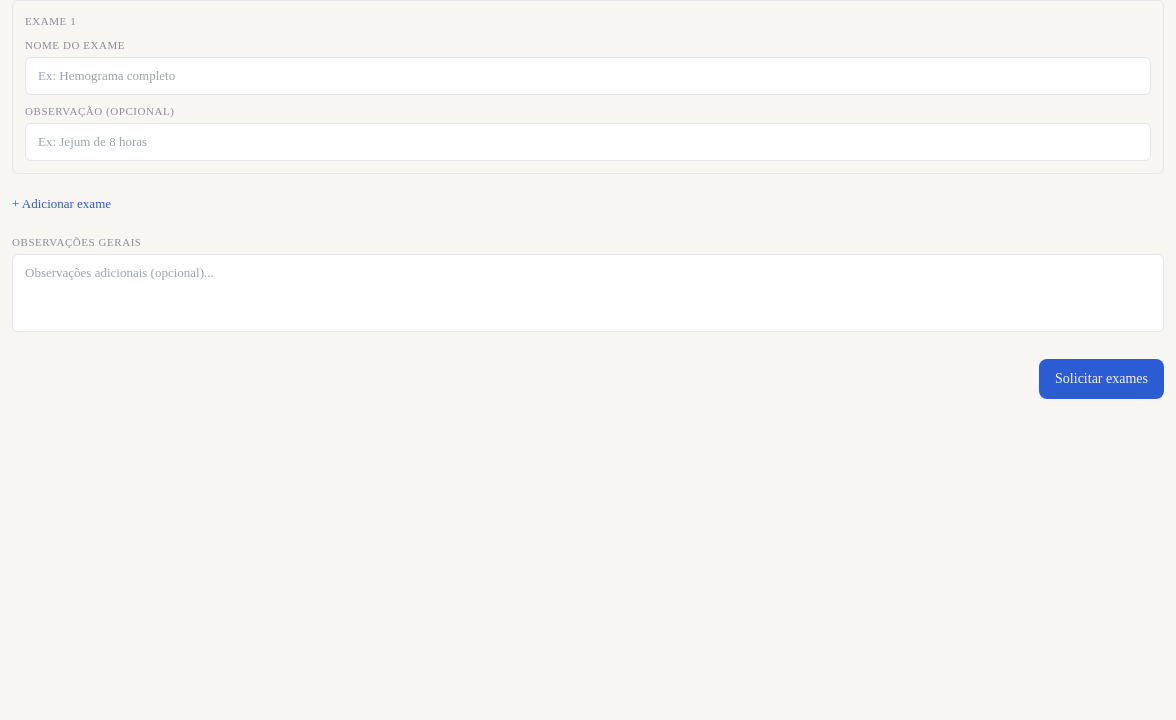
Test: ExameForm (integration) › adds a new item when clicking "+ Adicionar exame"
Click the button with test id "exame-form-add-item".
click(62, 204)  # box [12, 194, 111, 214]
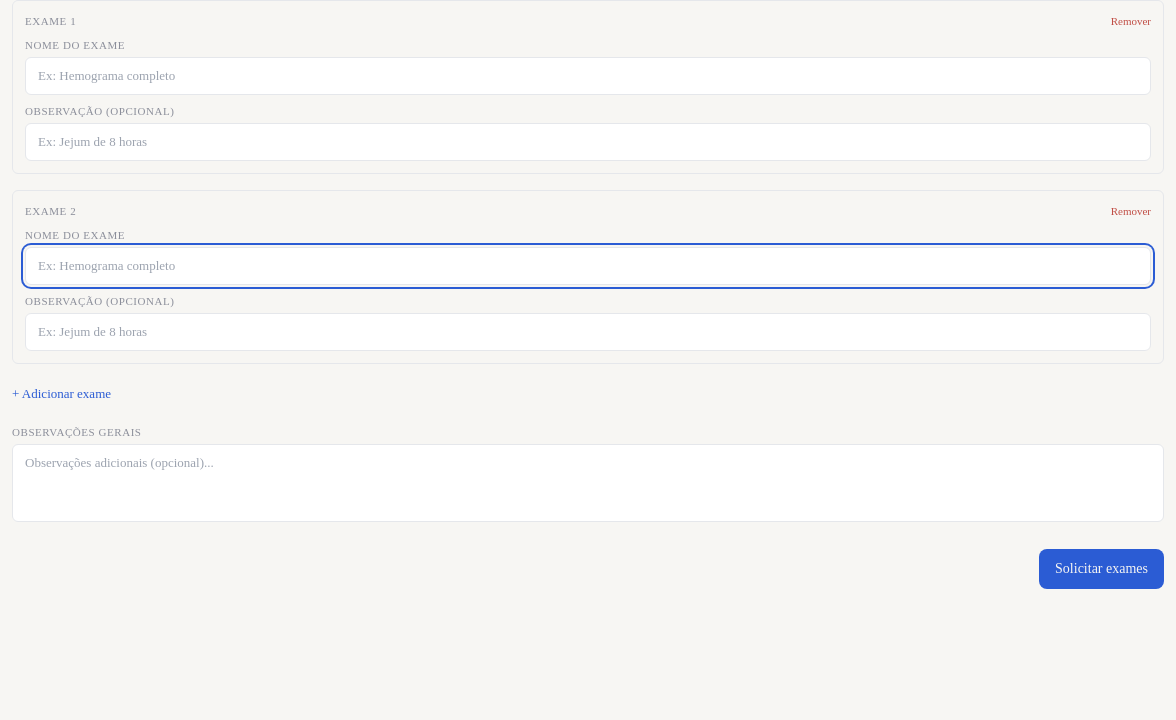
Expected: the list item with test id "exame-form-item-1" is shown, [12, 190, 1164, 364]
